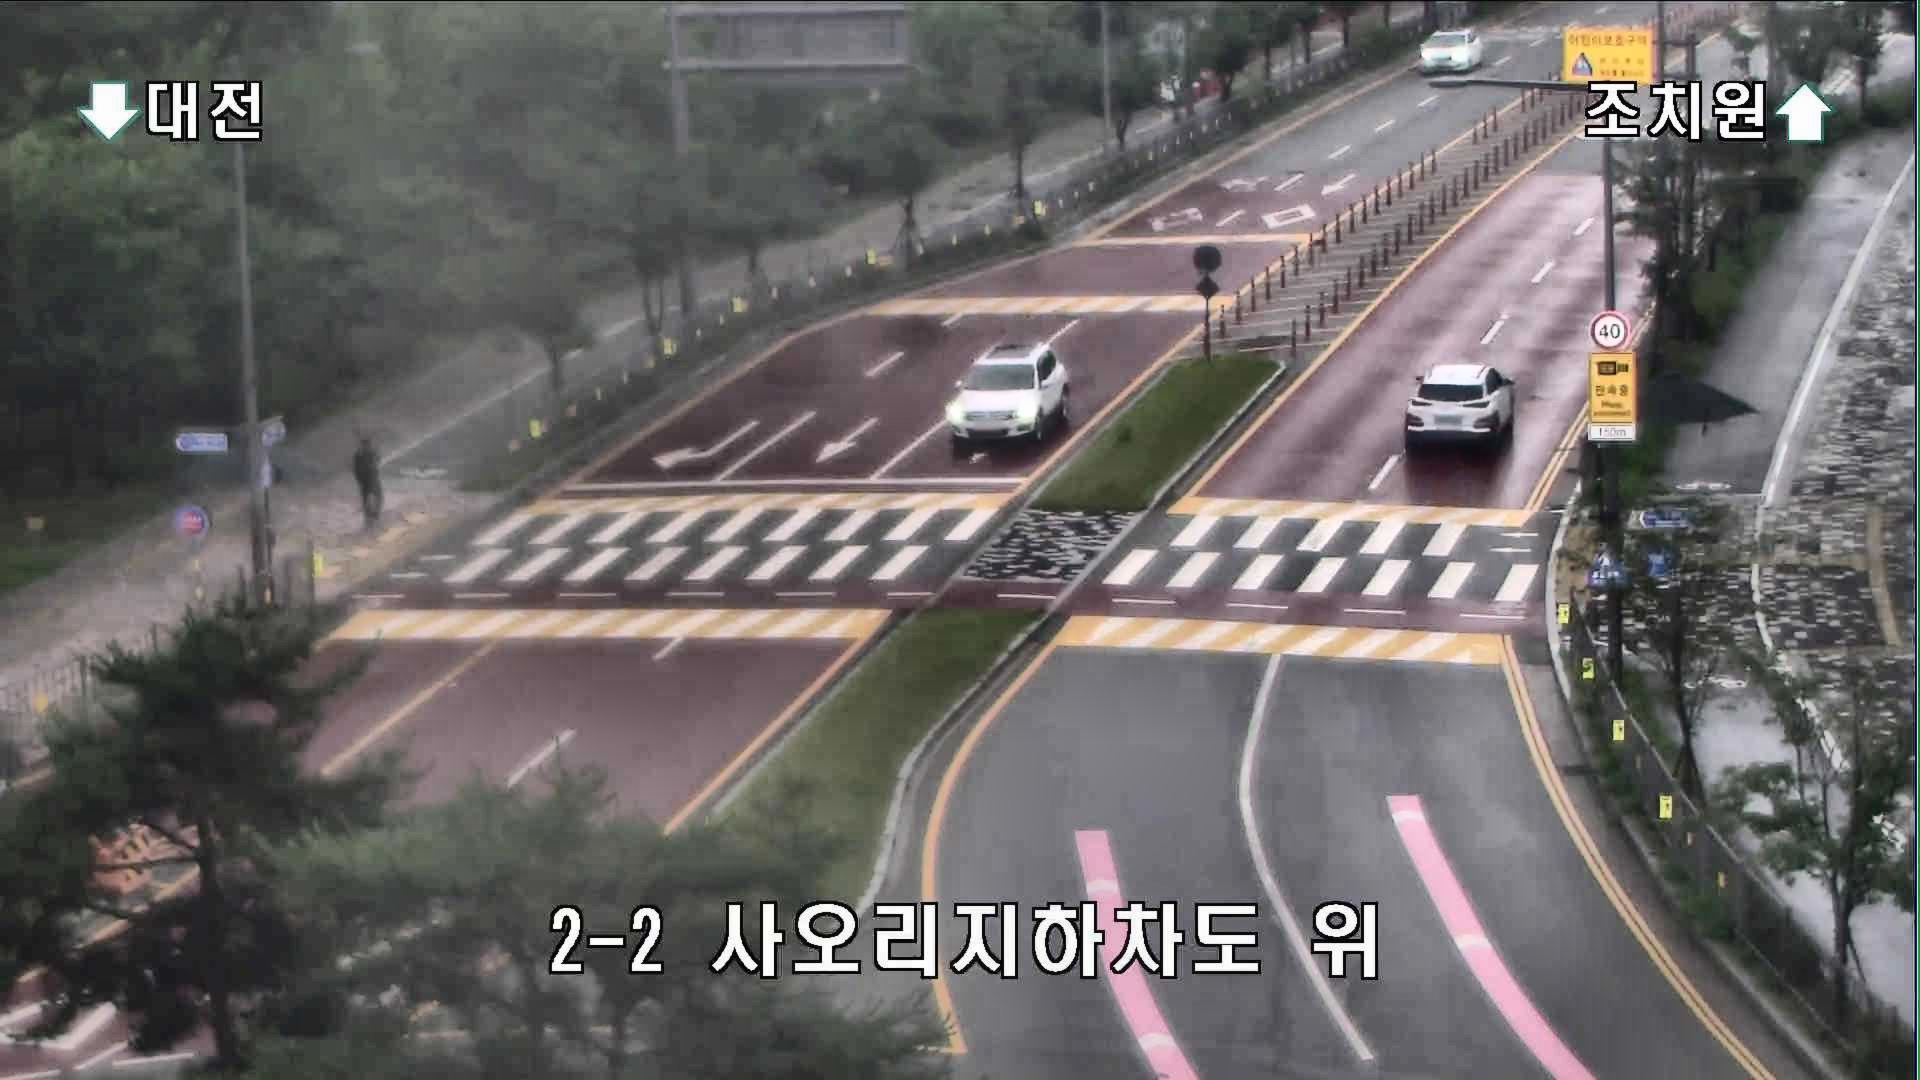sidewalk: (353, 435, 386, 529)
